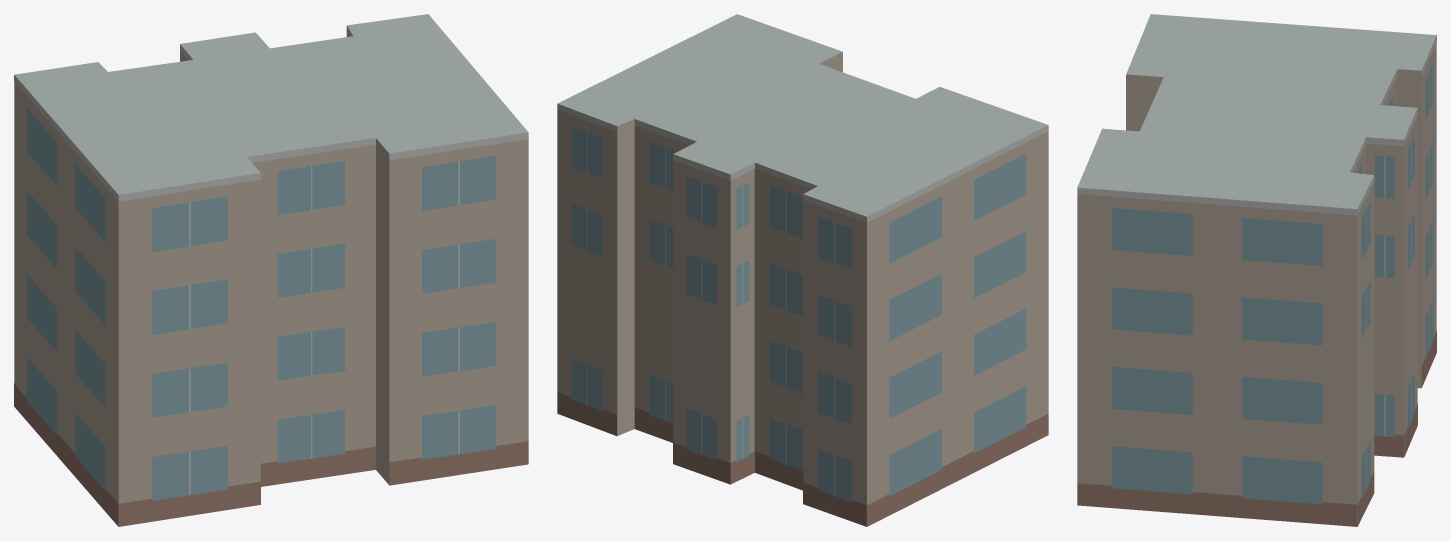
Rendered from survey-upis-32962970.glb.
3 renders of one model, left to right at view 1: azimuth 30°, elevation 25°; view 2: azimuth 150°, elevation 25°; view 3: azimuth 270°, elevation 25°, orthographic. The views are drawn at different scales.
Visible parts, largest first — view 1: survey-upis-32962970.tmp; view 2: survey-upis-32962970.tmp; view 3: survey-upis-32962970.tmp.
Part boxes in pixels (x1=…): survey-upis-32962970.tmp: x1=14, y1=14, x2=528, y2=526; survey-upis-32962970.tmp: x1=557, y1=14, x2=1048, y2=526; survey-upis-32962970.tmp: x1=1077, y1=14, x2=1436, y2=526.
Bounding box in the file's own units: 16.08 × 12.2 × 12.52.
